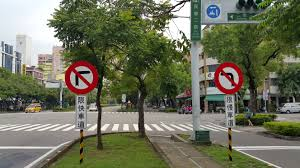No_left_turn: (215, 62, 243, 93)
No_right_turn: (64, 61, 98, 94)
